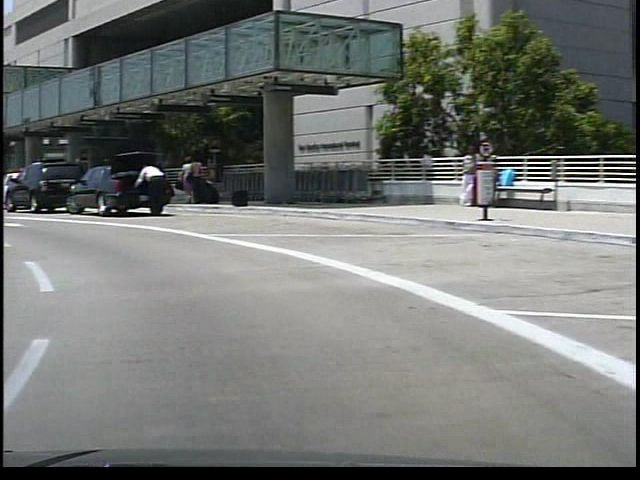person: (128, 163, 166, 222), (184, 155, 203, 209), (173, 158, 190, 207)
